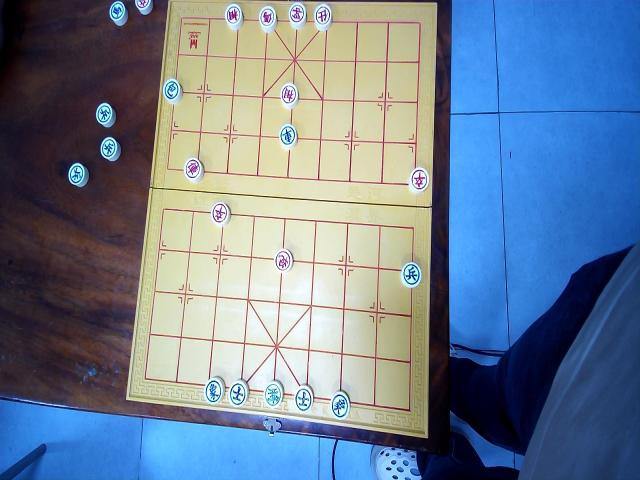piece: (203, 377, 224, 406), (229, 379, 249, 408), (294, 384, 314, 413), (264, 380, 284, 409), (408, 166, 429, 193), (330, 391, 350, 419), (401, 261, 422, 287), (184, 156, 204, 183), (96, 101, 116, 128), (163, 77, 183, 104), (224, 3, 243, 31), (210, 201, 230, 227), (274, 248, 294, 274), (100, 136, 120, 162), (108, 0, 128, 26), (258, 5, 276, 33), (314, 4, 332, 32), (288, 2, 306, 30), (68, 162, 88, 187), (280, 82, 298, 108), (279, 124, 297, 149), (134, 0, 153, 15)
